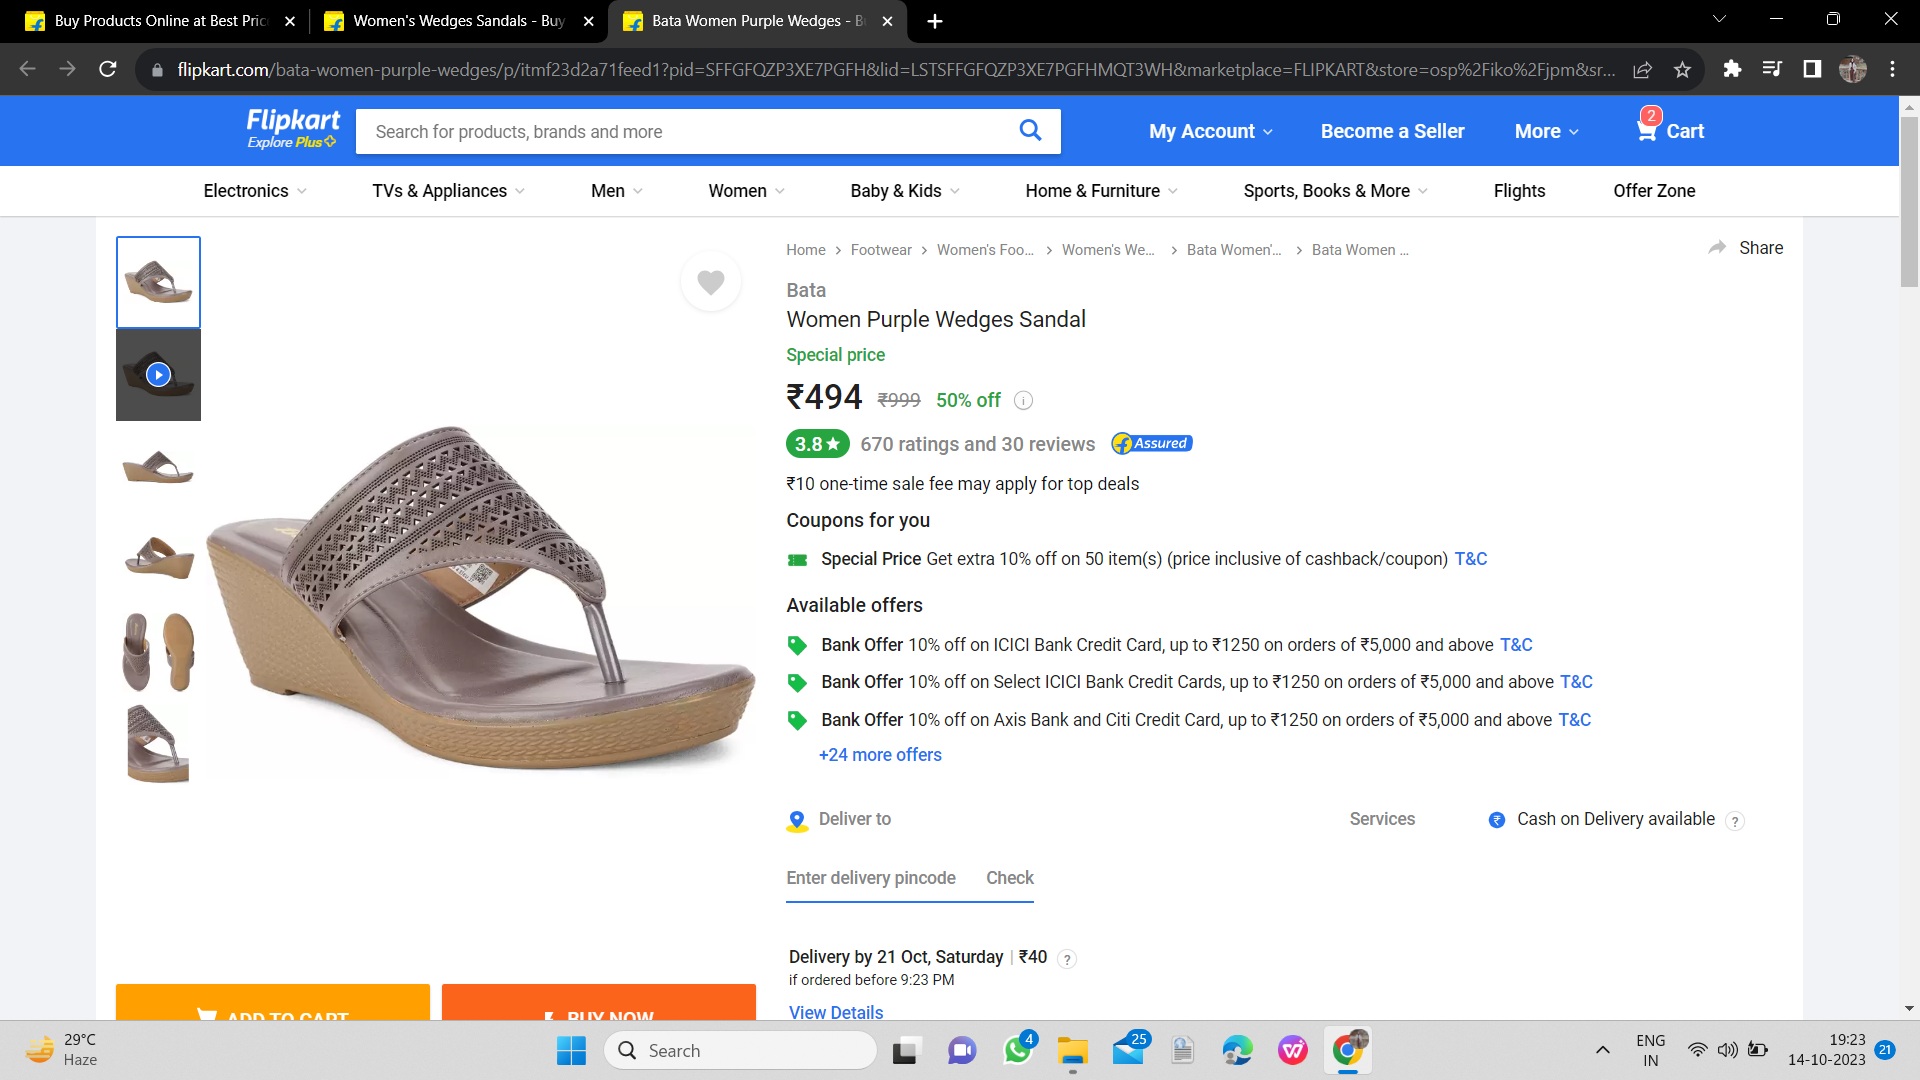Image: (240, 255, 757, 865)
Paragraph: (783, 630, 1615, 781), (1129, 104, 1716, 146), (783, 807, 1042, 902), (785, 546, 1499, 574), (787, 418, 1200, 462), (1333, 794, 1724, 837), (779, 282, 1098, 332), (781, 343, 1004, 414), (777, 464, 1147, 492), (785, 945, 1010, 973), (777, 496, 945, 533), (766, 591, 927, 624)
